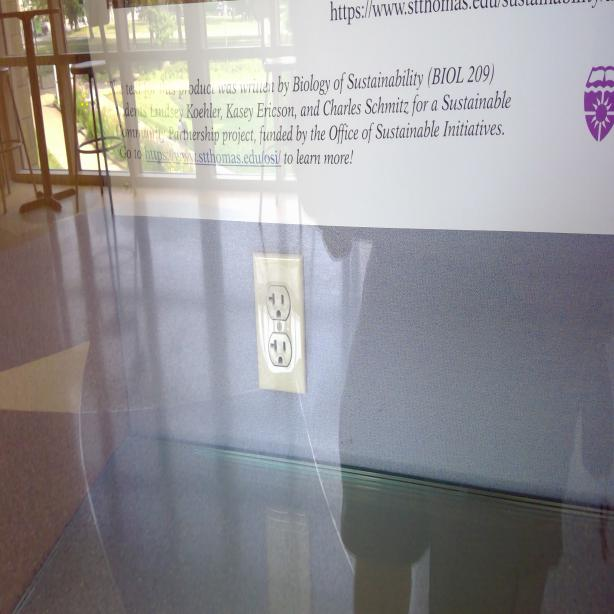typeb: (265, 286, 289, 321), (268, 334, 290, 367)
